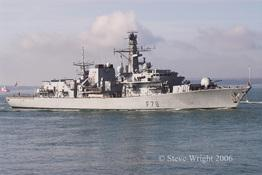warship: (8, 24, 253, 112)
